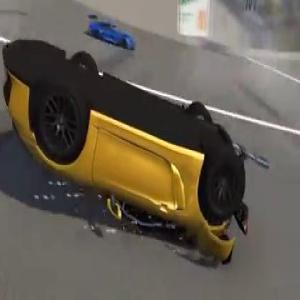critical: (1, 30, 247, 272)
